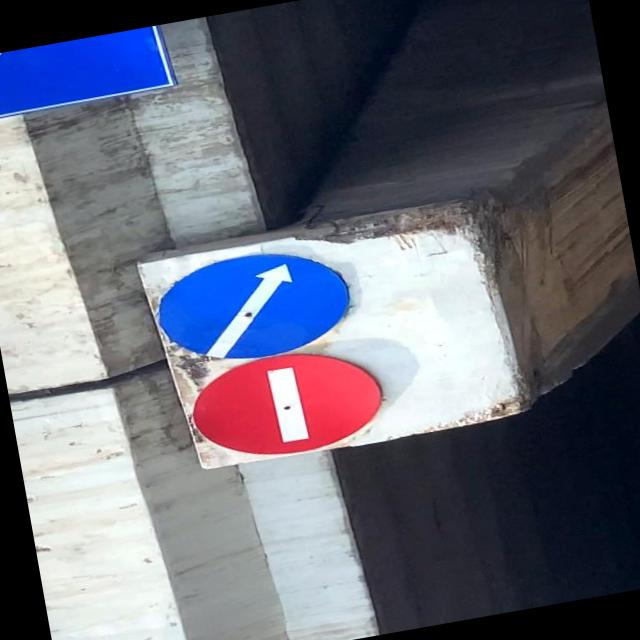P-102: (182, 338, 392, 468)
R-302a: (147, 237, 360, 373)
